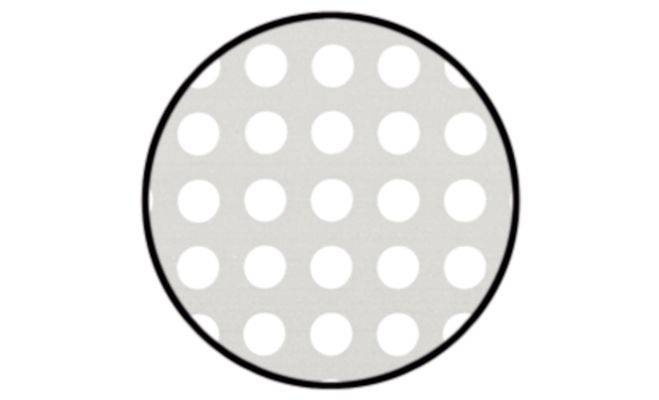Hole: (372, 40, 423, 93), (374, 174, 423, 228), (308, 40, 360, 90), (440, 108, 490, 159), (375, 107, 424, 158), (307, 308, 356, 359), (308, 108, 357, 158), (440, 176, 489, 226), (373, 241, 423, 290), (241, 41, 293, 88), (173, 241, 220, 293), (240, 108, 289, 157), (440, 241, 489, 290), (307, 242, 355, 292), (174, 176, 223, 224), (241, 175, 289, 224), (307, 176, 355, 225), (374, 310, 422, 359), (241, 241, 287, 292), (174, 110, 221, 159), (241, 310, 287, 358)
